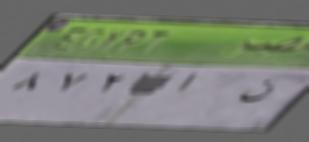2: (100, 68, 126, 96)
7: (59, 67, 88, 94)
8: (12, 68, 40, 99)
alif: (175, 67, 200, 94)
noon: (235, 72, 277, 109)
